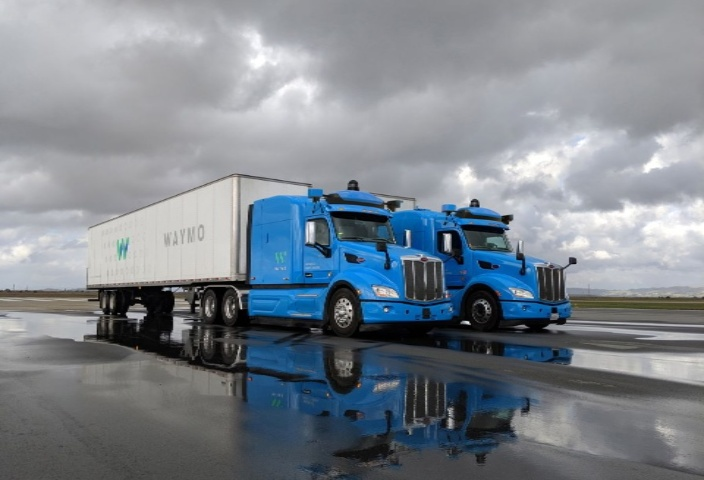truck: (70, 173, 447, 337), (378, 186, 604, 344)
